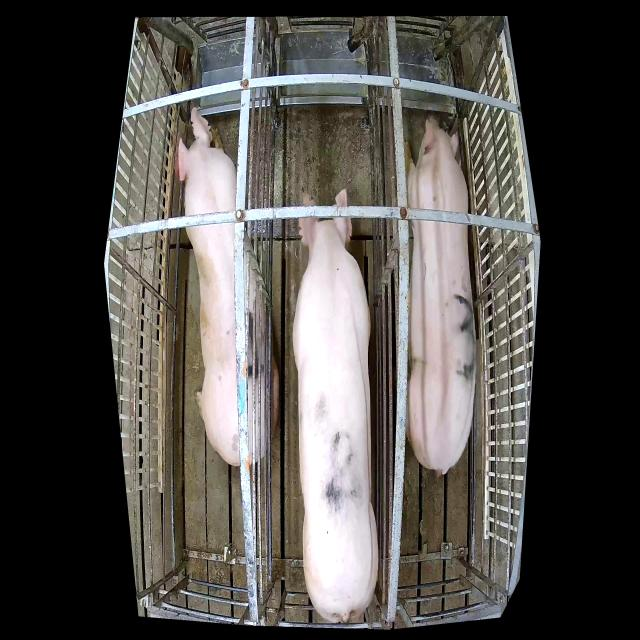pig: (174, 107, 279, 467), (294, 188, 378, 623), (404, 111, 476, 476)
